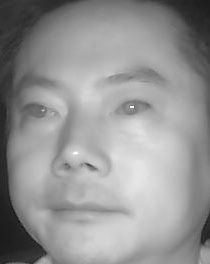eye: (109, 94, 155, 122), (19, 98, 61, 127)
mouth: (42, 186, 129, 230)
